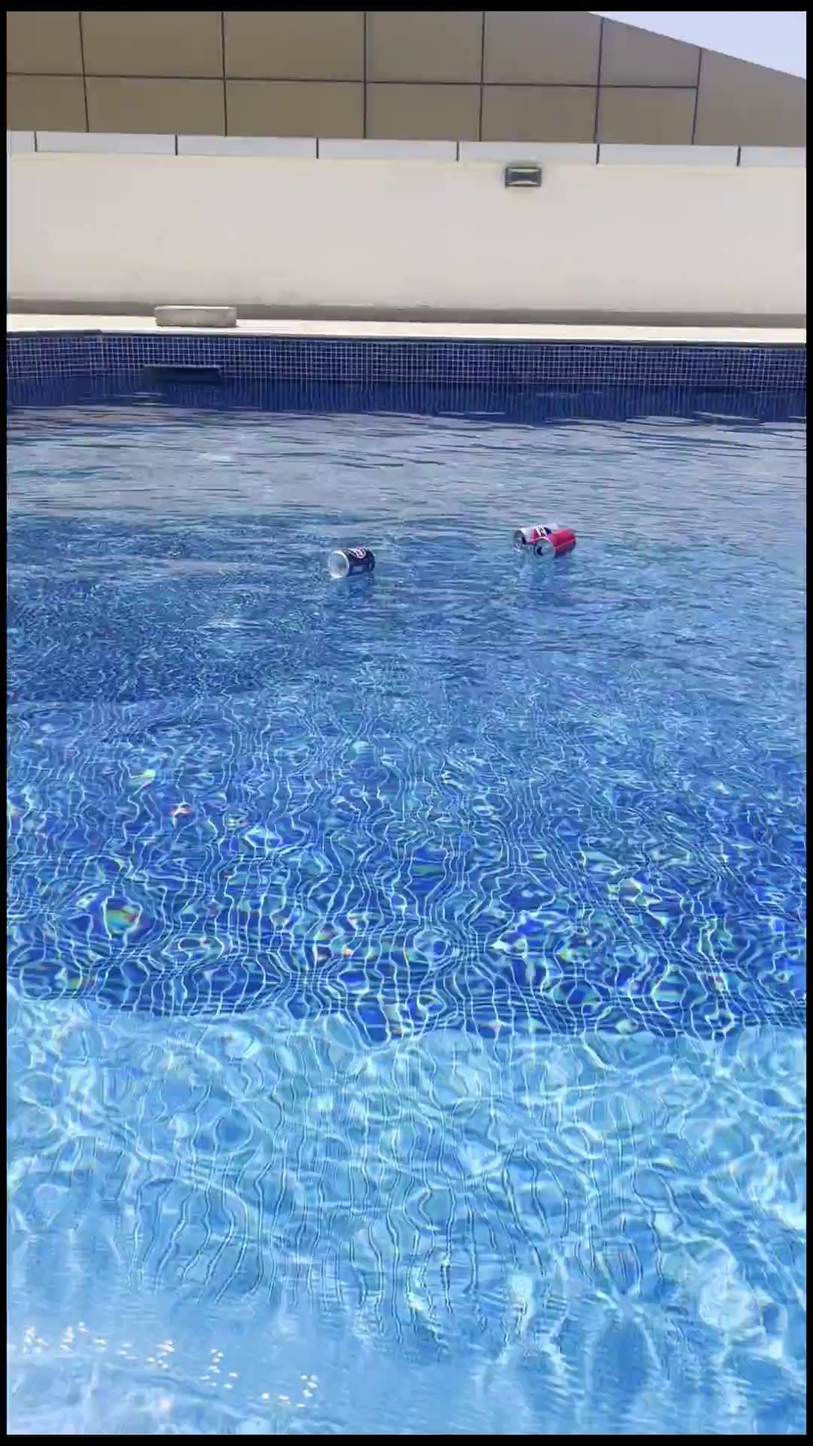debris: (318, 532, 376, 594), (510, 506, 555, 562), (530, 520, 575, 574)
